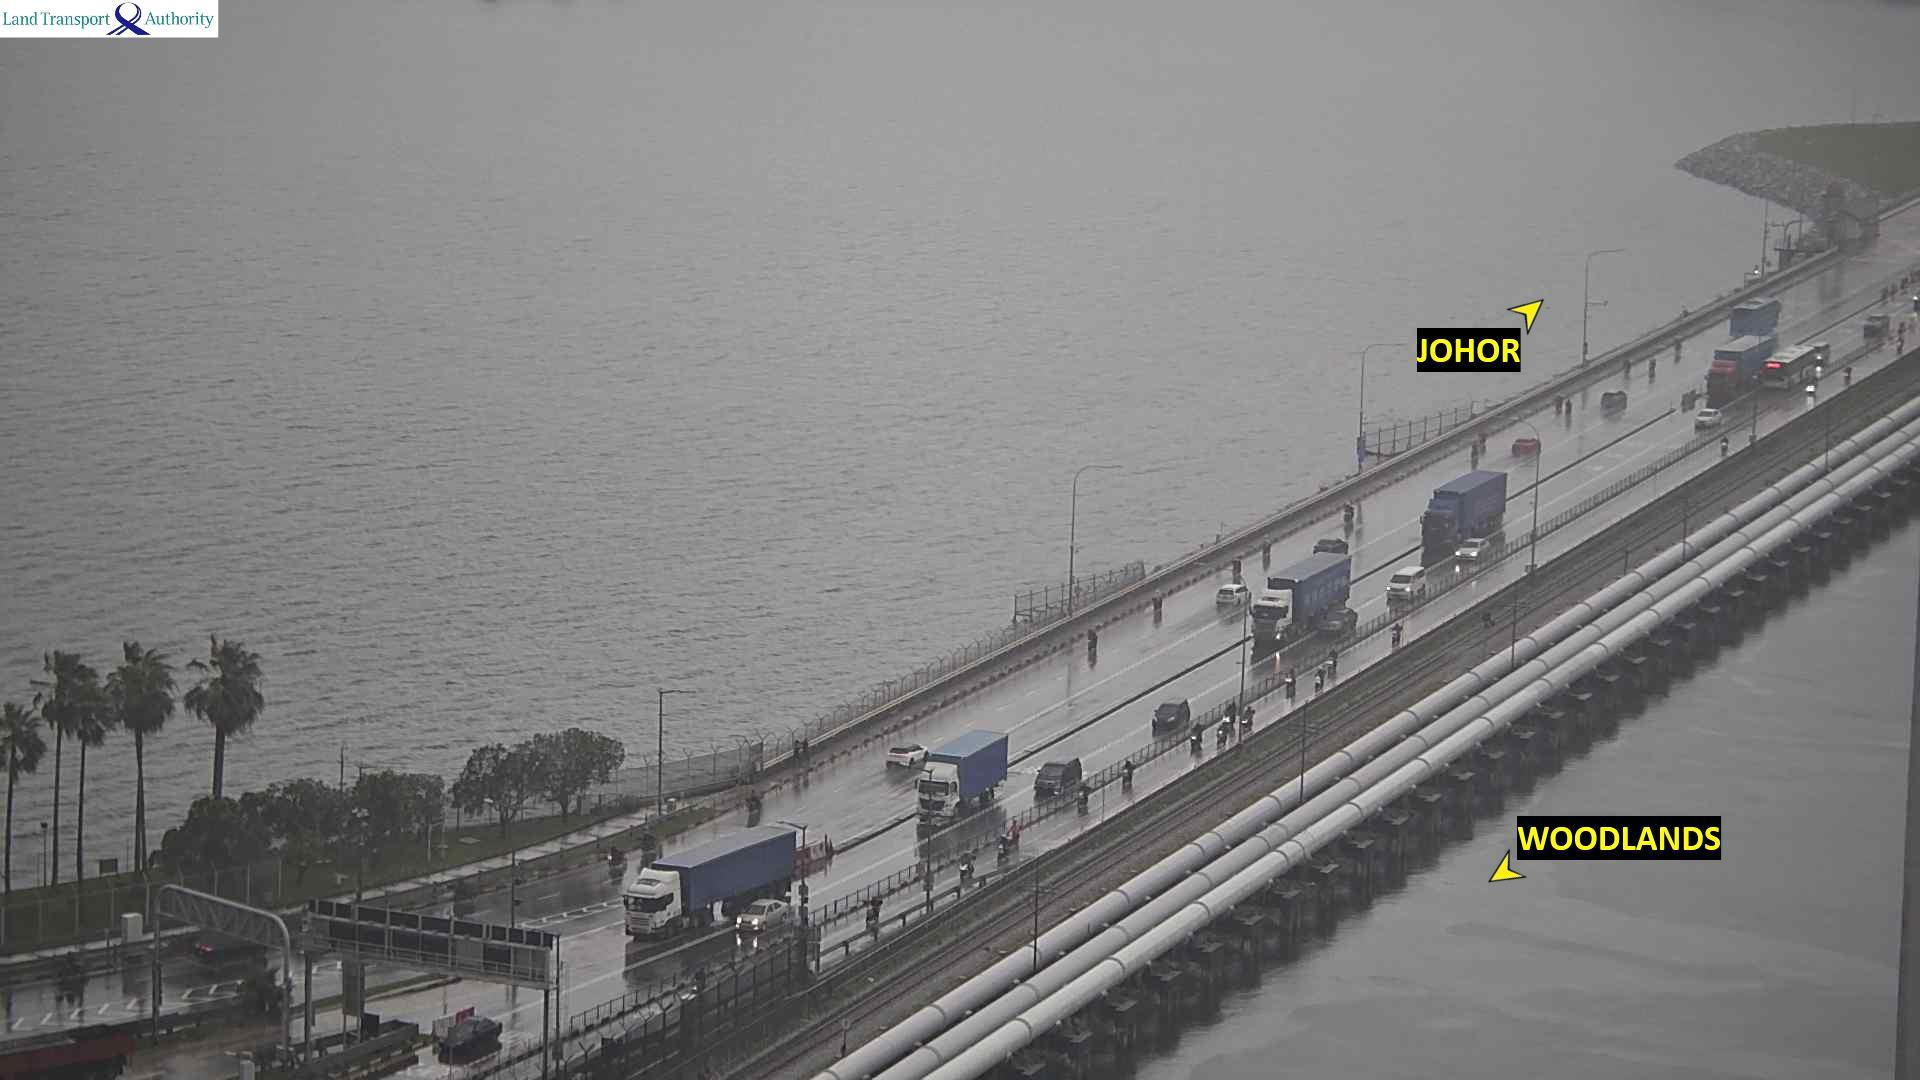vehicle-causeway-johor: (1729, 298, 1783, 336), (889, 743, 924, 764), (1599, 390, 1628, 410), (1217, 585, 1249, 603), (1314, 538, 1347, 553), (746, 789, 763, 818), (1513, 437, 1538, 455), (608, 846, 623, 865), (1087, 625, 1098, 647), (1647, 358, 1657, 379), (1471, 445, 1480, 467), (1675, 337, 1683, 361), (1155, 589, 1164, 608), (1622, 358, 1632, 375), (1344, 502, 1354, 518), (1262, 536, 1271, 553), (1566, 400, 1574, 413), (1555, 397, 1562, 410)
vehicle-causeway-singapore: (626, 841, 812, 929), (1253, 555, 1351, 642), (919, 730, 1018, 805), (1422, 472, 1508, 550), (1762, 343, 1830, 387), (1712, 338, 1782, 378), (738, 897, 788, 935), (1035, 758, 1081, 796), (1387, 566, 1424, 600), (1152, 697, 1191, 729), (1456, 538, 1490, 564), (1322, 608, 1357, 632), (1695, 406, 1722, 428), (1865, 313, 1890, 336), (958, 849, 975, 879), (867, 898, 884, 924), (1388, 622, 1403, 647), (1285, 669, 1296, 698), (998, 831, 1009, 858), (1078, 783, 1089, 810), (1314, 667, 1324, 692), (1244, 709, 1255, 731), (1190, 723, 1199, 749), (1123, 759, 1132, 784), (1215, 725, 1226, 743), (1806, 377, 1817, 395), (1719, 435, 1728, 453), (1843, 366, 1851, 385), (1329, 651, 1336, 672)
